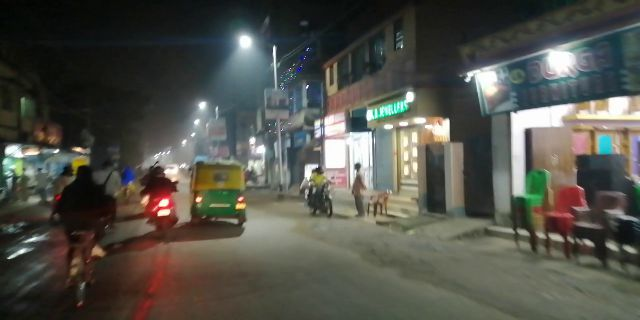Autorickshaw: (191, 158, 249, 228)
Cycle: (61, 169, 115, 313)
Motorbike: (144, 162, 182, 249), (299, 160, 338, 220)
